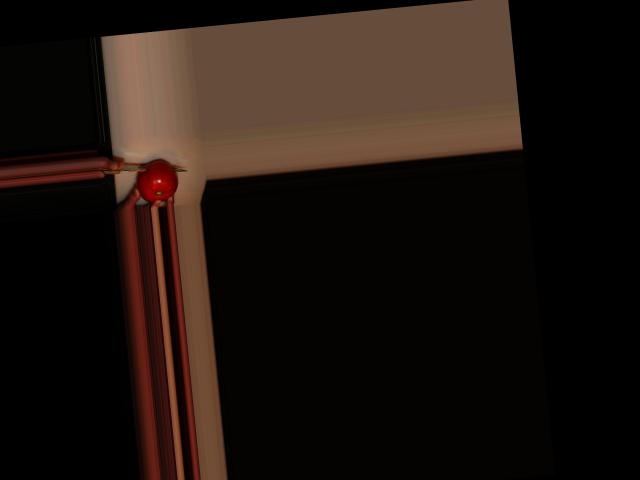tomato: (135, 158, 180, 204)
